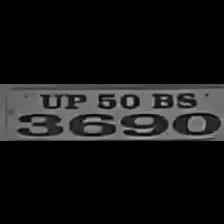0: (170, 109, 222, 134), (116, 90, 142, 107)
3: (12, 109, 64, 135)
5: (90, 90, 118, 108)
6: (68, 110, 116, 136)
9: (117, 109, 169, 134)
B: (145, 90, 175, 108)
P: (58, 91, 90, 109)
S: (174, 90, 198, 106)
U: (34, 90, 64, 108)
